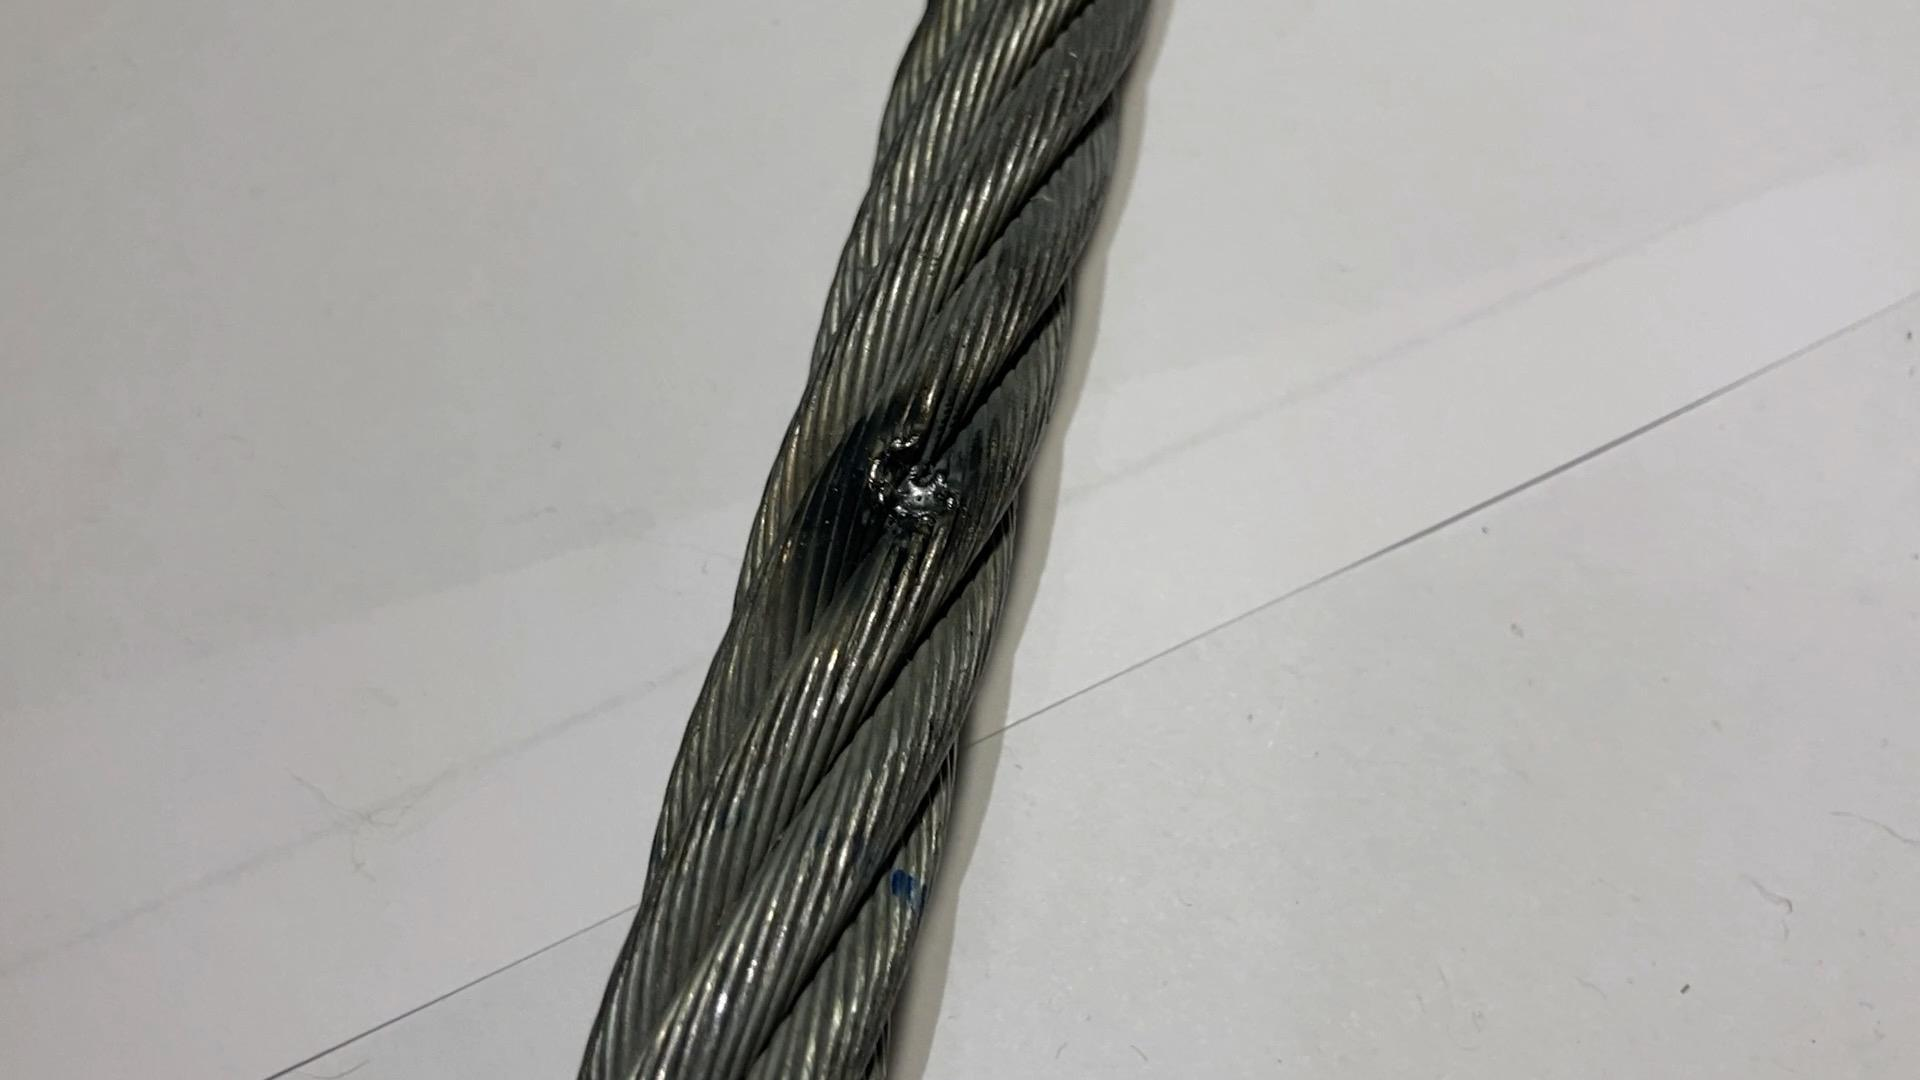thunderbolt: (828, 371, 1007, 530)
